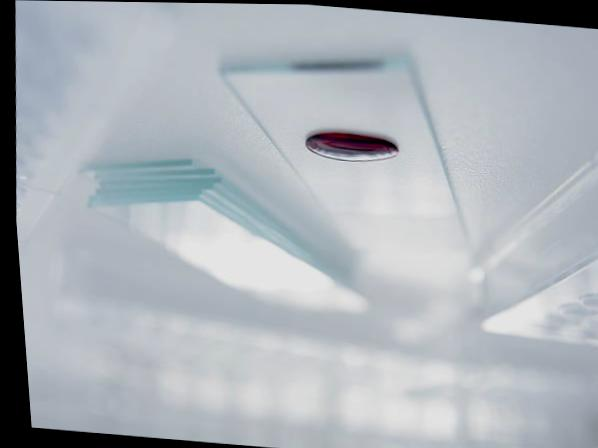Fire: (303, 132, 396, 161)
